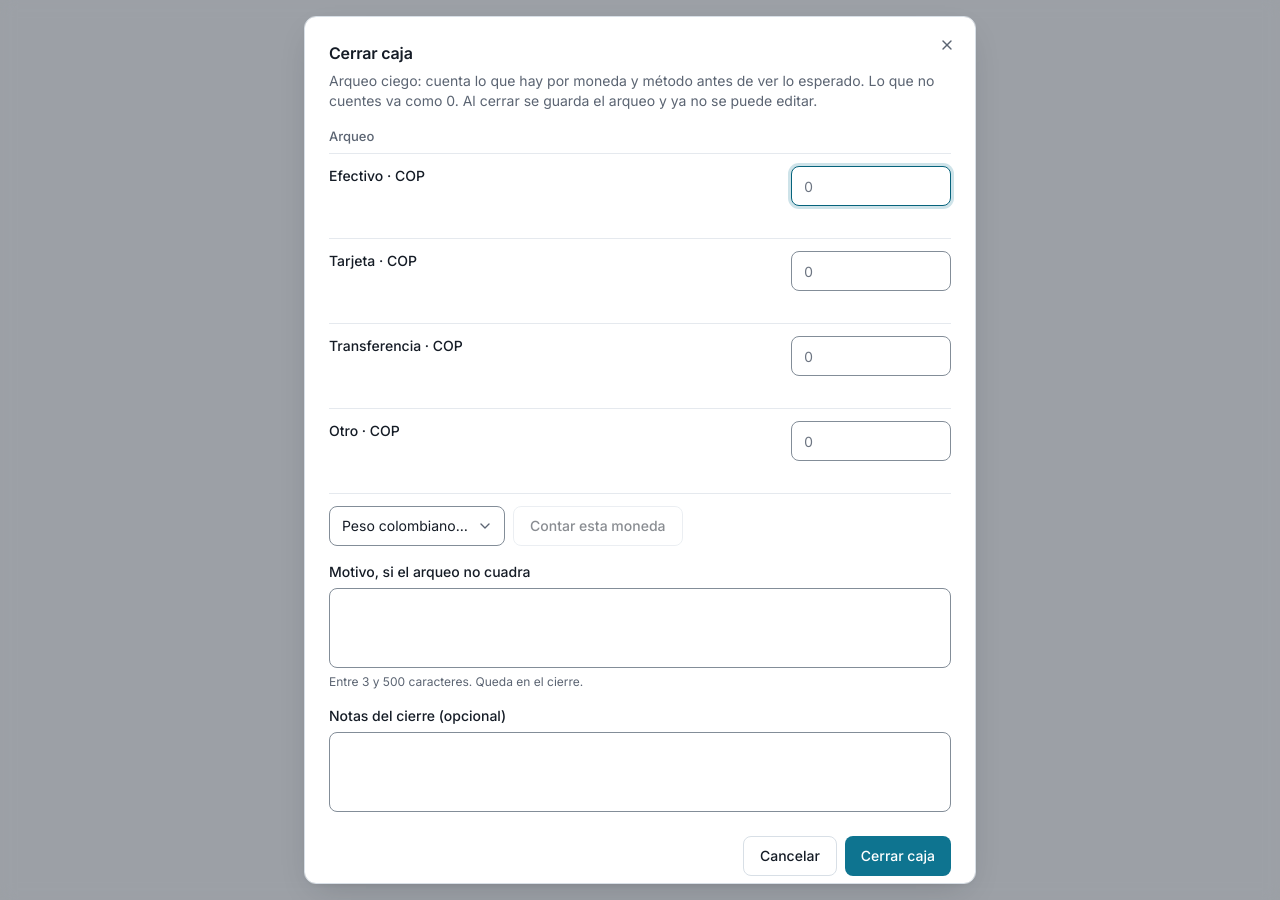
CloseCashSessionModal (DX-027) › arqueo ciego: filas en blanco sin esperado; el 400 de la API pide el motivo
Check: the field named "Contado en transferencia (COP)" is shown, box [791,336,951,376]
Type "70000" into the field named "Contado en efectivo (COP)".
click(871, 186); type("70000")  # box [791,166,951,206]
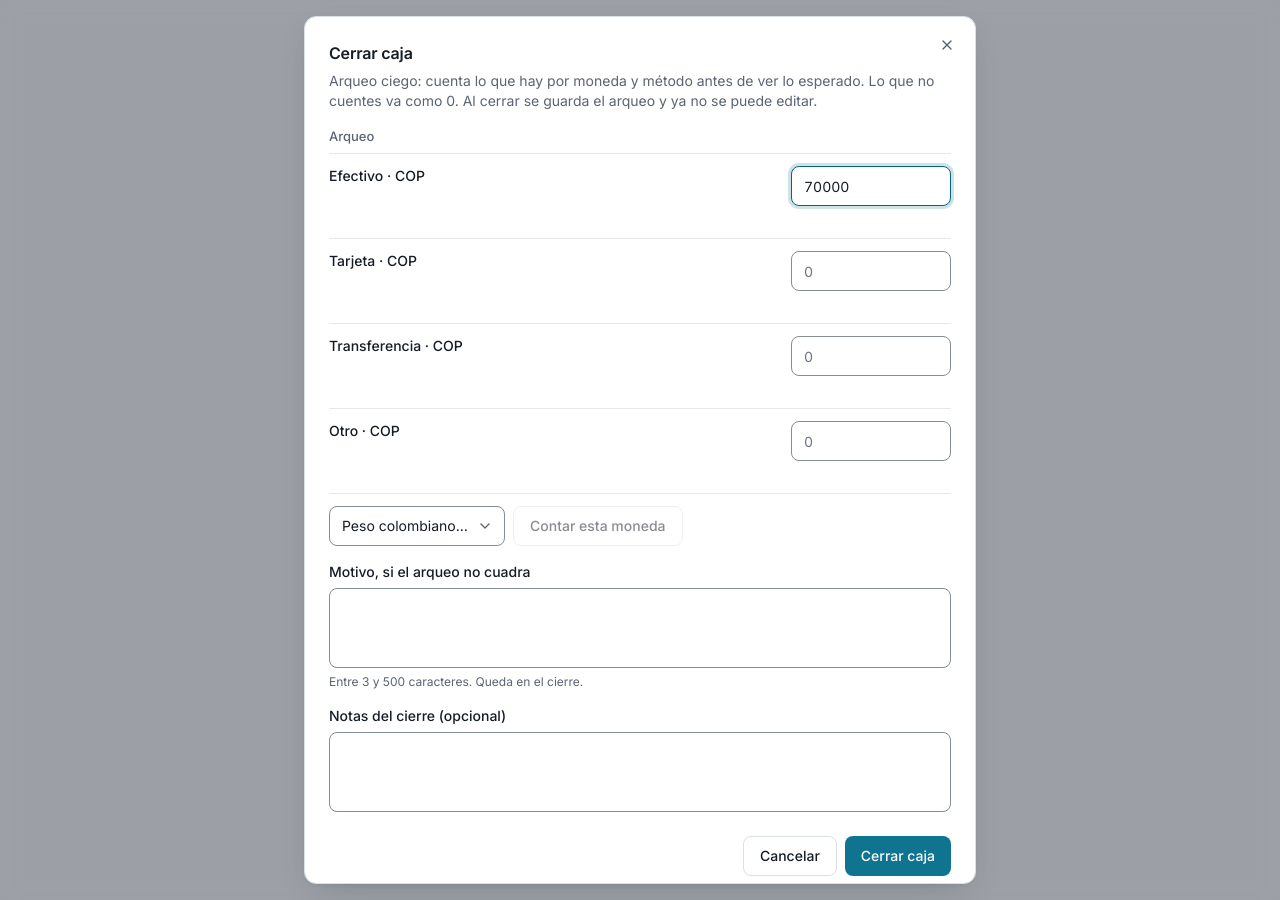
Click the button "Cerrar caja".
click(898, 856)  # box [845,836,951,876]
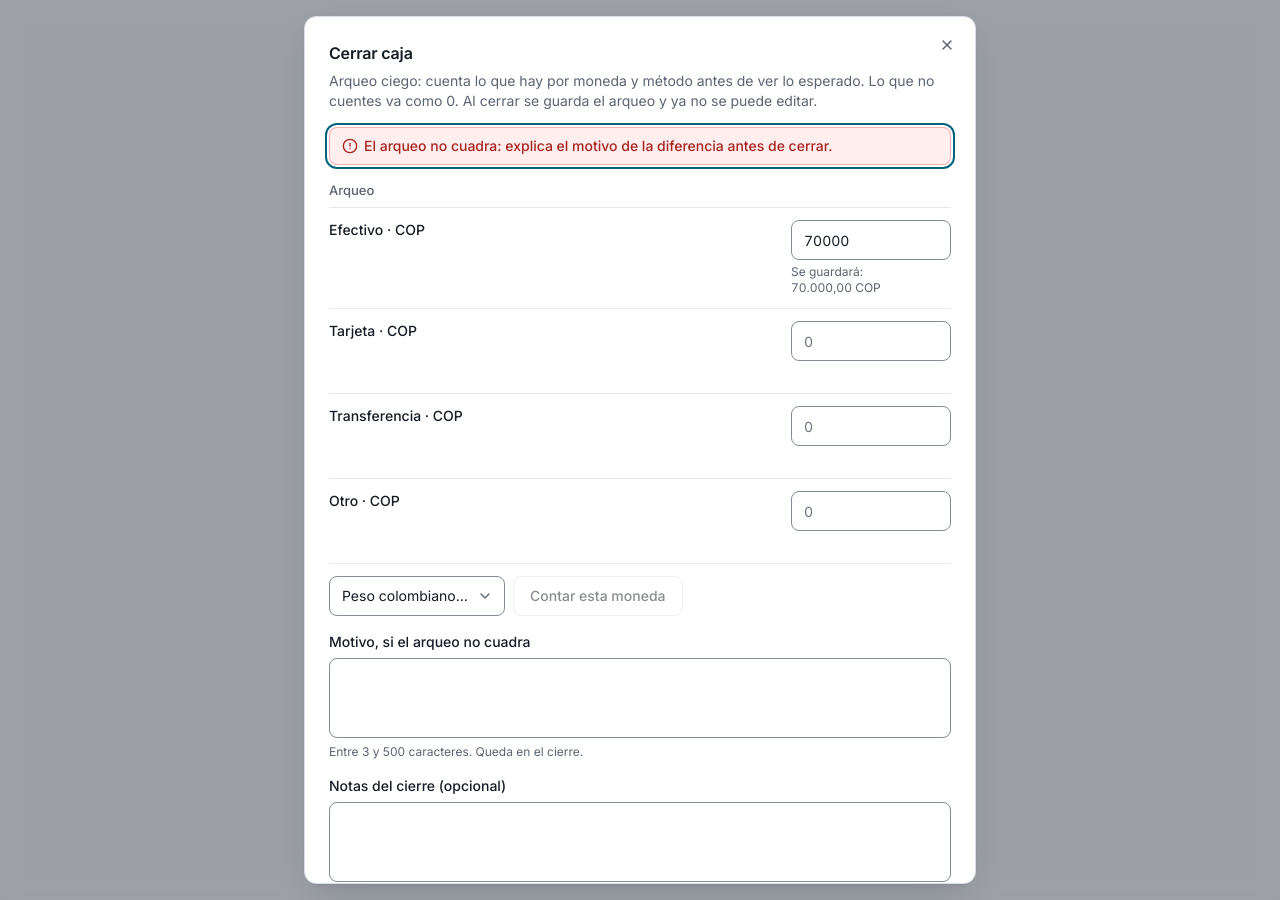
Check: the text box labelled "Motivo, si el arqueo no cuadra" is shown, box [329,658,951,738]
Check: the text "El arqueo no cuadra" is shown, box [364,137,833,154]
